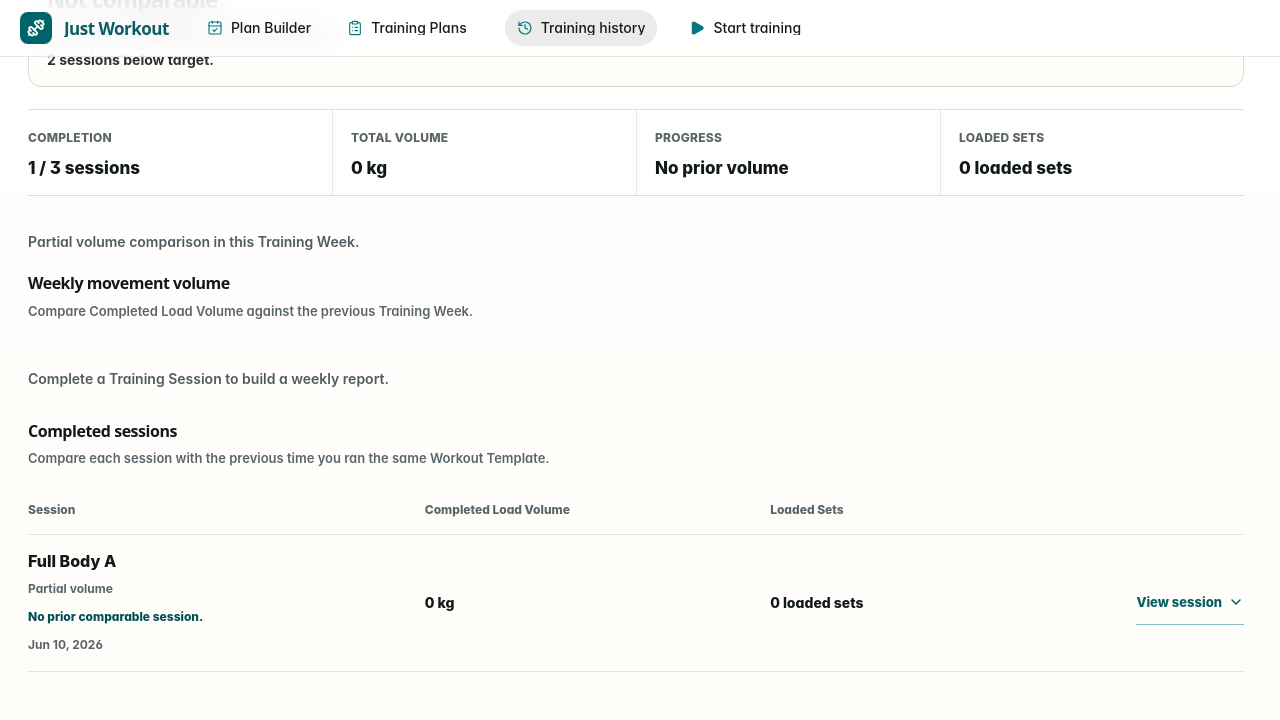
Test: TrainingPlanRoute › shows the exact no-loaded-sets message while keeping bodyweight-only exercises visible
(page scrolled)
Expected: the 2nd text "0 loaded sets" is shown, [770, 594, 864, 611]
Expected: the 2nd text "0 kg" is shown, [425, 594, 454, 611]
Click the button with aria-label "View session Full Body A".
click(636, 604)  # box [28, 535, 1244, 672]
(page scrolled)
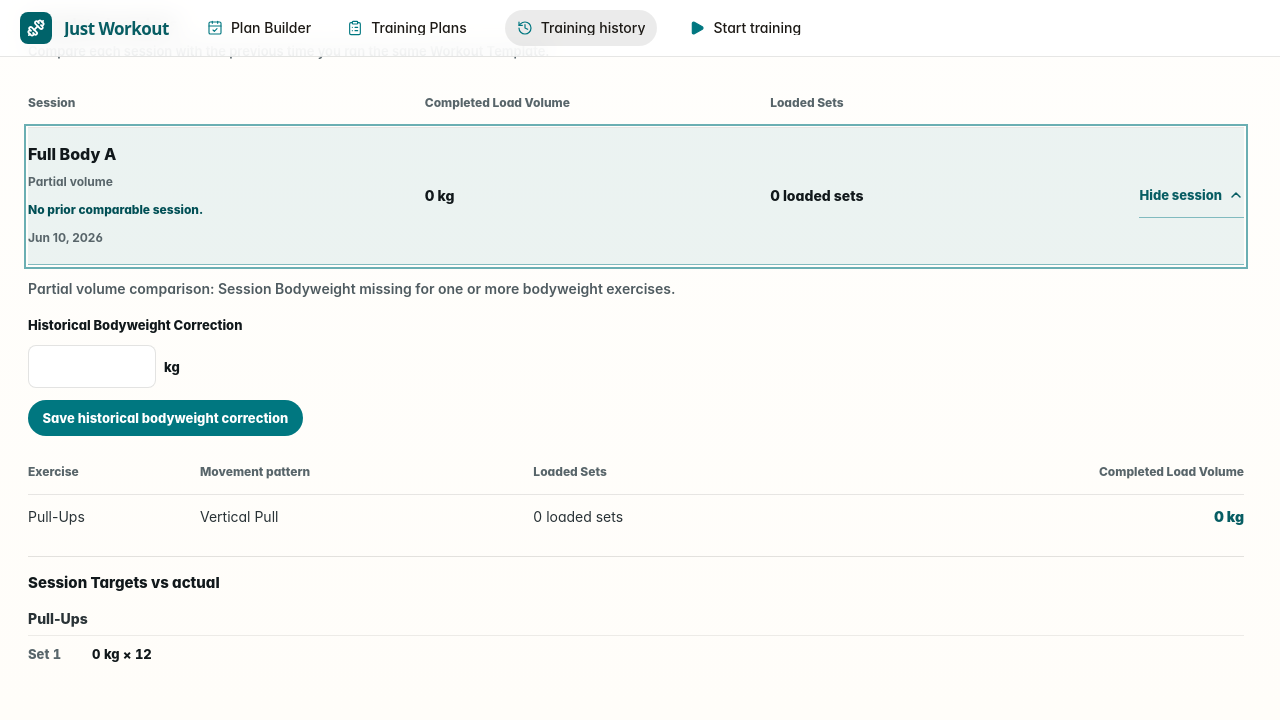
Expected: the text "Partial volume comparison: Session Bodyweight missing for one or more bodyweight exercises." is shown, [28, 280, 676, 297]
Expected: the row "Pull-Ups Vertical Pull 0 loaded sets 0 kg" is shown, [28, 494, 1244, 539]
